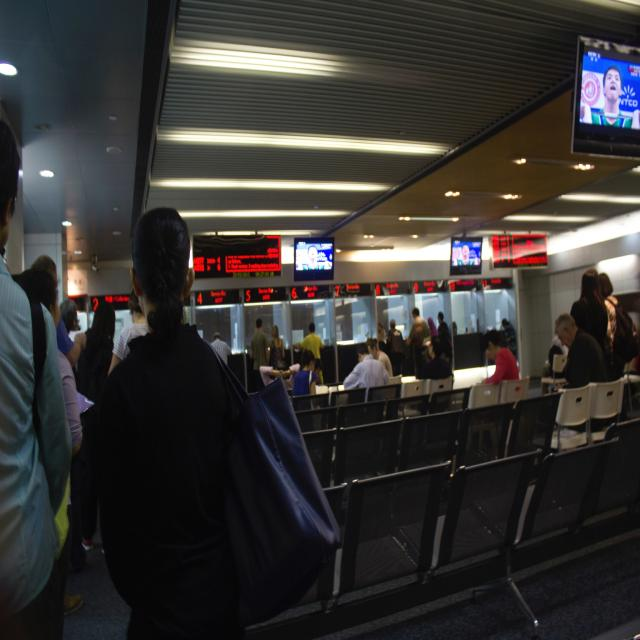body: (91, 206, 245, 640), (0, 108, 76, 640), (9, 255, 82, 561), (17, 264, 84, 458), (76, 300, 116, 555), (538, 305, 640, 399), (553, 312, 609, 434), (478, 328, 522, 451), (106, 286, 154, 386), (598, 272, 638, 383), (415, 335, 454, 416), (570, 268, 608, 346), (291, 348, 322, 442), (342, 341, 392, 391), (293, 321, 326, 387), (249, 317, 270, 393), (259, 360, 300, 390), (365, 337, 393, 378), (405, 307, 431, 350), (386, 318, 404, 376), (501, 318, 518, 362), (210, 332, 232, 366), (437, 312, 452, 356), (269, 324, 285, 360), (377, 318, 387, 344), (427, 316, 439, 337), (452, 318, 459, 339)
